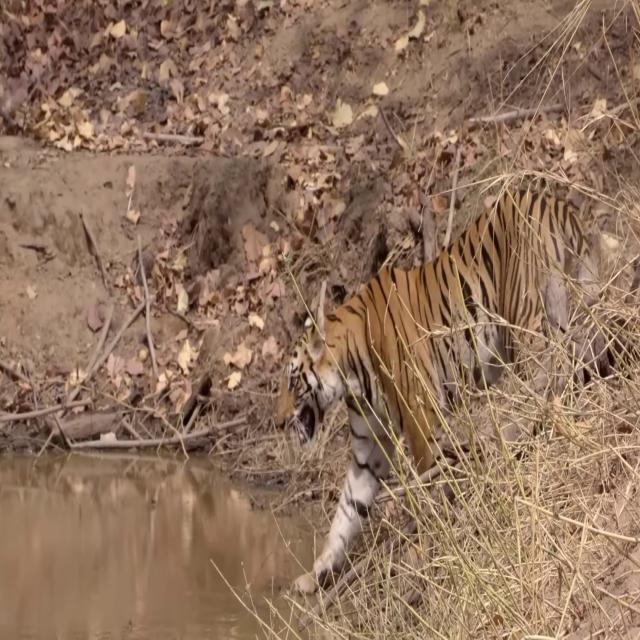tiger: (286, 187, 602, 594)
